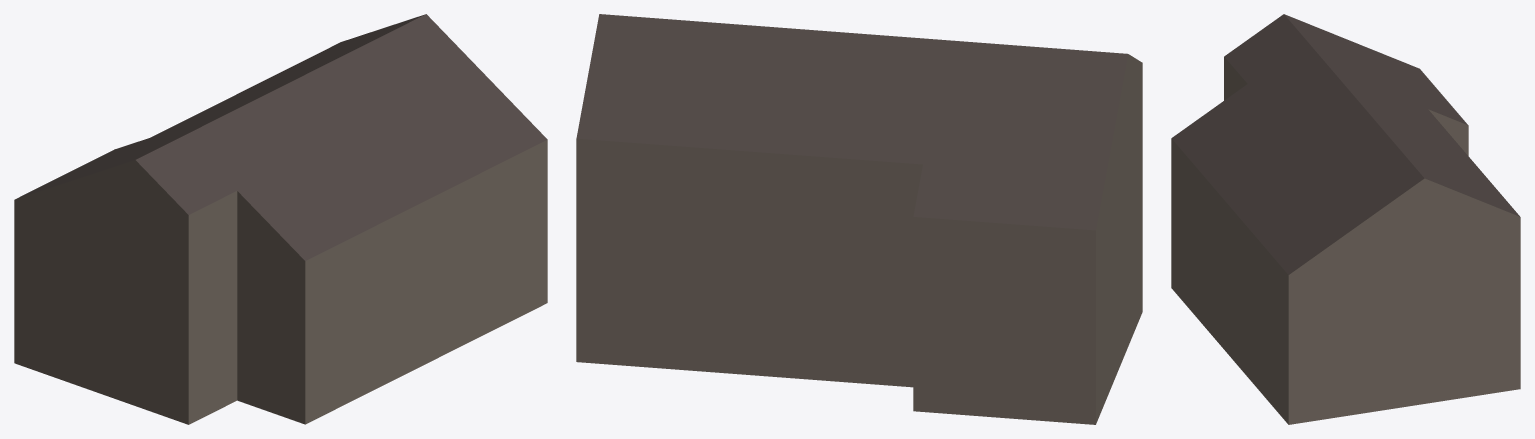
3 renders of one model, left to right at view 1: azimuth 30°, elevation 25°; view 2: azimuth 150°, elevation 25°; view 3: azimuth 270°, elevation 25°, orthographic. The views are drawn at different scales.
Parts seen in each view (by area): view 1: HP-w1198667809; view 2: HP-w1198667809; view 3: HP-w1198667809.
Boxes of the visible parts, box(x1,y1,x2,y2) form: HP-w1198667809: box(14, 14, 547, 424); HP-w1198667809: box(576, 14, 1142, 424); HP-w1198667809: box(1171, 14, 1520, 424).
Size of the model in its own units: 26.61 by 13.56 by 19.03.
